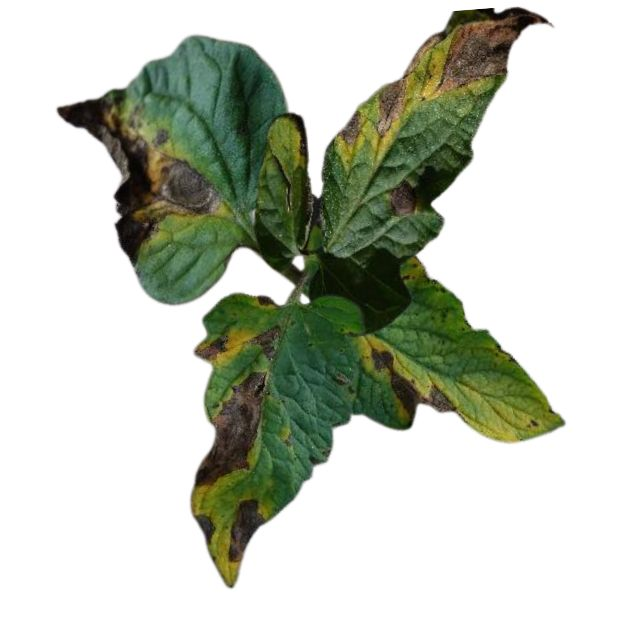Early_blight: (54, 94, 220, 242), (372, 10, 547, 138), (192, 368, 270, 487), (366, 342, 458, 417), (229, 494, 266, 566), (386, 180, 420, 216), (194, 334, 228, 363), (253, 325, 281, 359), (336, 108, 360, 145), (194, 513, 217, 546), (256, 294, 276, 308)
